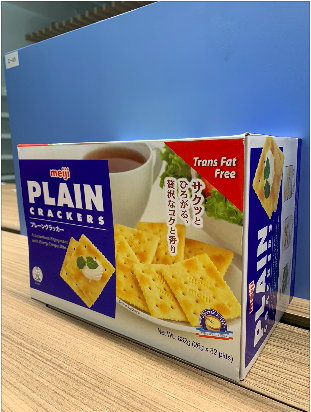Crackers_800-899g: (27, 154, 259, 330)
